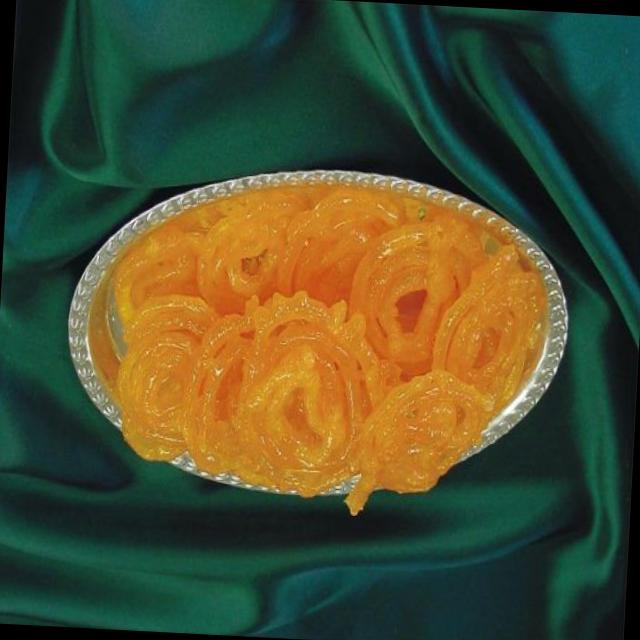jalebi: (80, 177, 554, 510)
